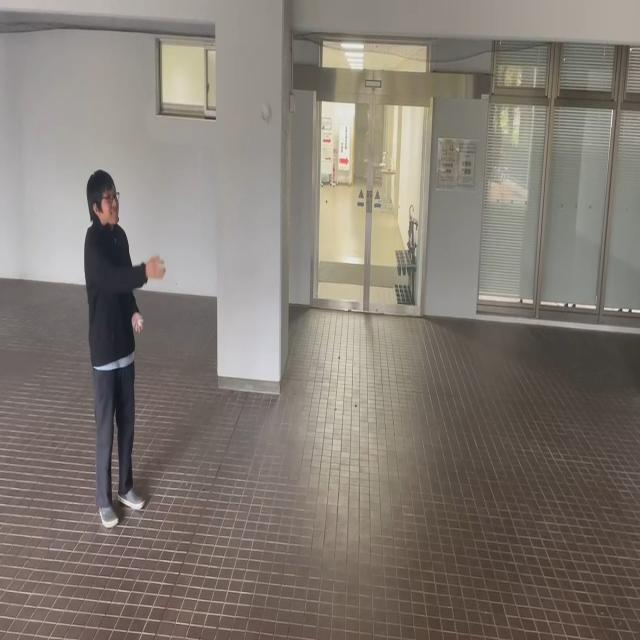paper: (261, 100, 273, 128), (138, 319, 144, 326)
